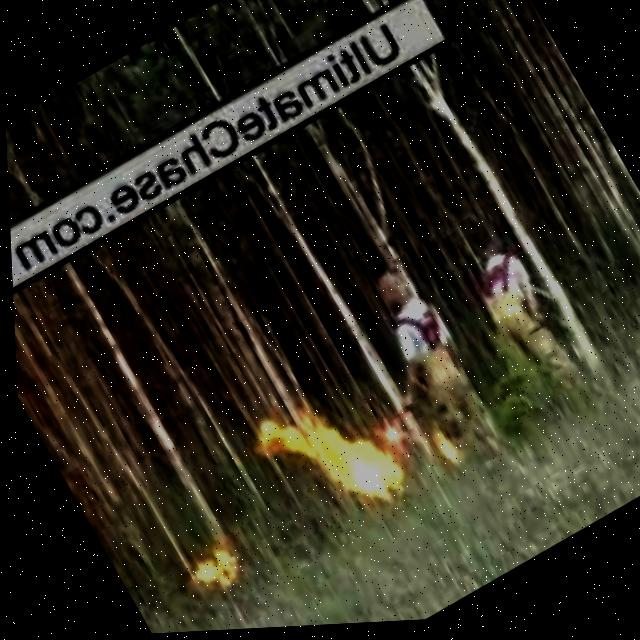Fire: (228, 357, 426, 560), (154, 514, 259, 616)
